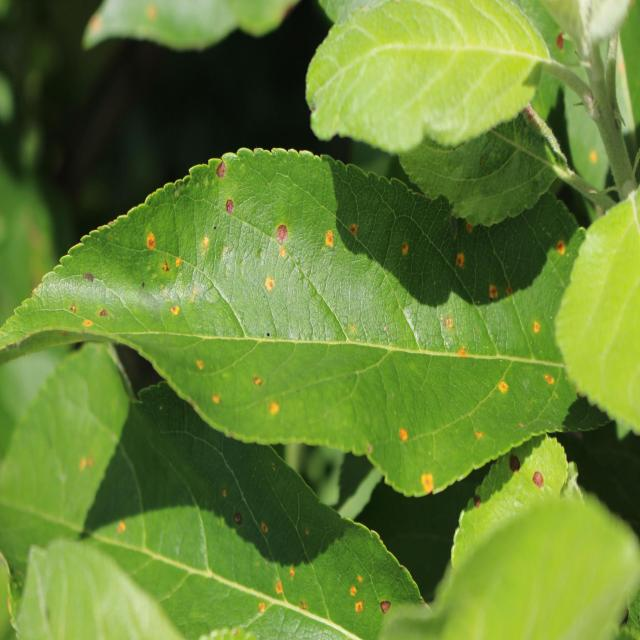Black Rot: (80, 265, 102, 293), (213, 158, 233, 188), (374, 590, 394, 620), (466, 487, 486, 517), (505, 450, 522, 483), (226, 506, 246, 528), (530, 468, 548, 492), (222, 192, 238, 216), (274, 222, 290, 246)
Rust: (343, 211, 368, 251), (392, 412, 416, 451), (548, 223, 570, 264), (448, 238, 468, 281), (314, 218, 337, 254), (418, 462, 438, 502), (398, 232, 417, 271), (108, 514, 132, 544), (278, 555, 299, 589), (540, 363, 558, 400), (139, 228, 161, 258), (438, 302, 456, 338), (259, 273, 280, 303), (190, 350, 210, 380), (485, 276, 503, 309), (264, 398, 288, 422), (456, 340, 470, 381), (493, 377, 513, 405), (259, 511, 274, 548), (209, 385, 226, 415), (472, 424, 492, 449), (275, 242, 293, 266), (200, 220, 213, 252), (255, 591, 267, 622), (352, 600, 366, 626), (274, 578, 290, 600), (164, 299, 180, 320), (78, 316, 98, 332), (346, 579, 361, 600), (252, 368, 265, 391), (172, 256, 186, 274), (533, 319, 541, 343)
